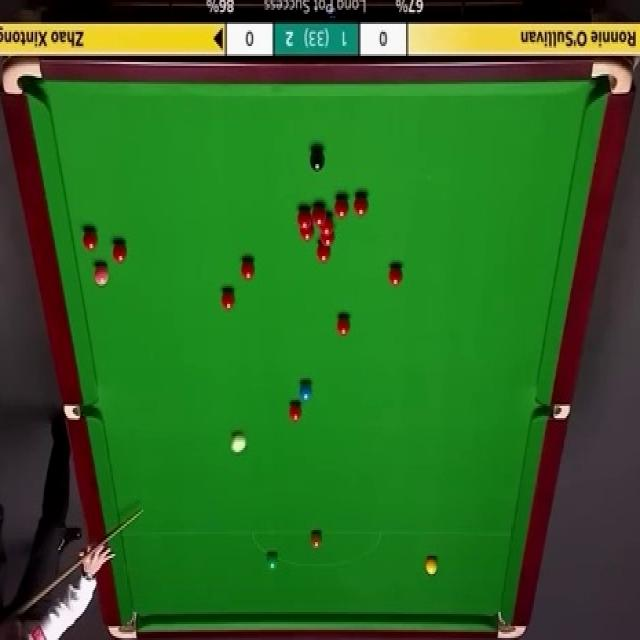pocket: (0, 60, 42, 100), (594, 60, 632, 94), (499, 608, 529, 640), (108, 610, 140, 638), (63, 403, 99, 420), (538, 405, 572, 420)
